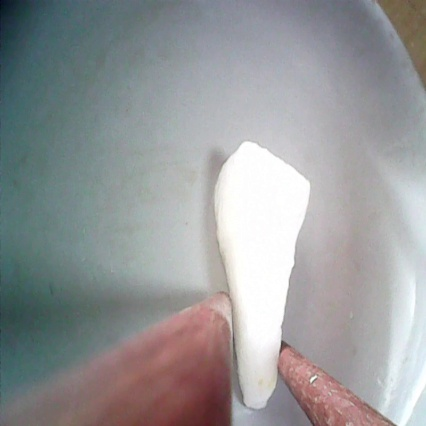white_chinese-yam: (209, 131, 311, 415)
